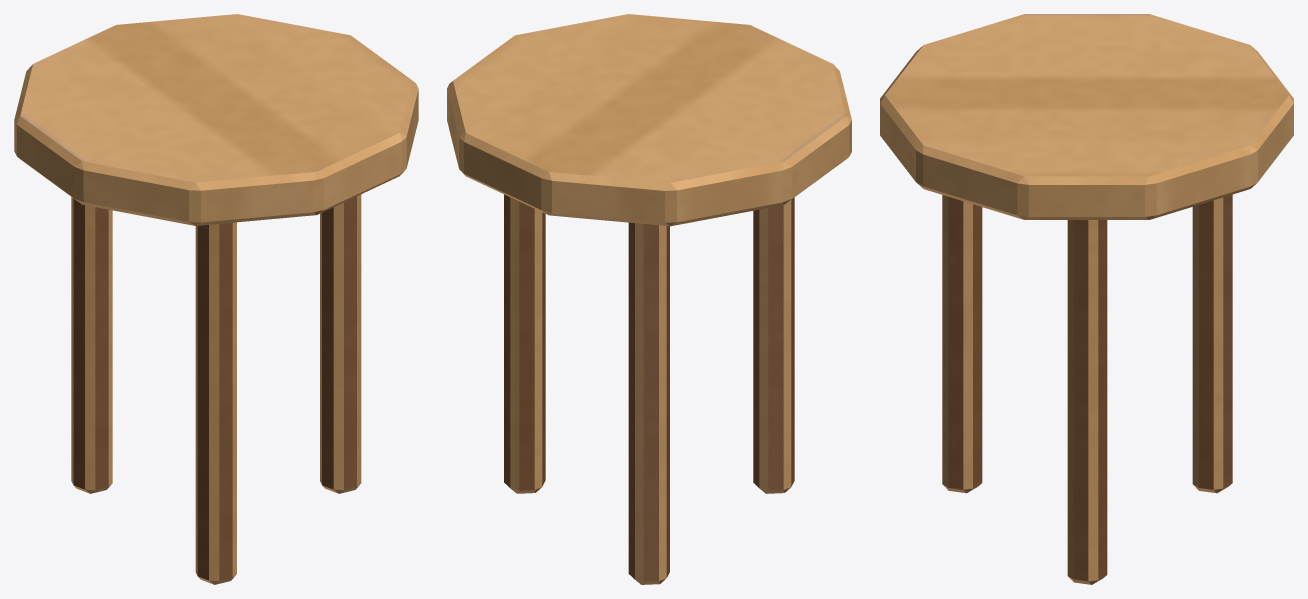
Rendered from sm_prop_stool.glb.
3 views of the same model, side by side, from view 1: azimuth 30°, elevation 25°; view 2: azimuth 150°, elevation 25°; view 3: azimuth 270°, elevation 25° (orthographic).
Visible parts, largest first — view 1: sm_prop_stool; view 2: sm_prop_stool; view 3: sm_prop_stool.
Boxes of the visible parts, x1,y1,x2,y2 form: sm_prop_stool: (14, 14, 418, 584); sm_prop_stool: (447, 14, 851, 584); sm_prop_stool: (880, 14, 1293, 584).
Size of the model in its own units: 0.2473 by 0.29 by 0.2575.
1 material, 1 textured.
